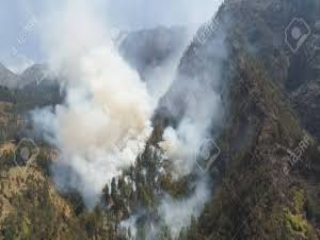smoke: (34, 20, 149, 174), (161, 91, 226, 226), (93, 105, 157, 203)
